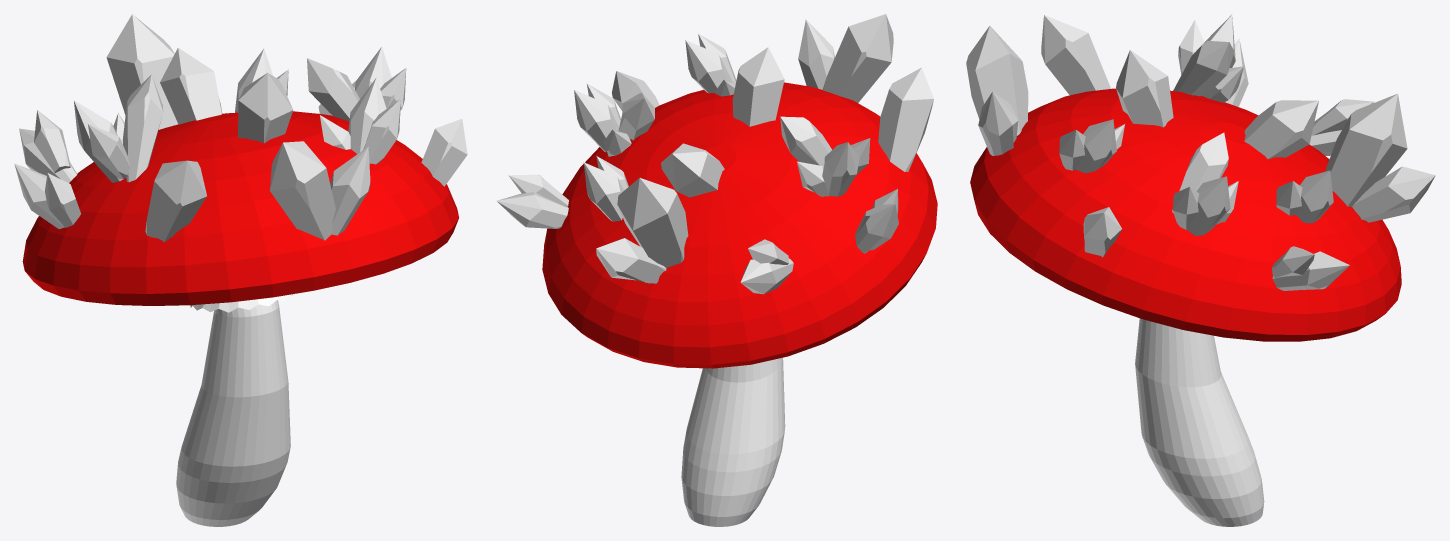
The model's file is champignons_1 (1).fbx.
3 views of the same model, side by side, from view 1: azimuth 30°, elevation 25°; view 2: azimuth 150°, elevation 25°; view 3: azimuth 270°, elevation 25° (orthographic). The views are drawn at different scales.
Parts seen in each view (by area): view 1: Sphere, Cylinder.006, Cylinder, Cylinder.022, Cylinder.017, Cylinder.015, Cylinder.011, Cylinder.003, Cylinder.004, Cylinder.025, Cylinder.013, Cylinder.016 (+11 smaller); view 2: Sphere, Cylinder, Cylinder.006, Cylinder.022, Cylinder.015, Cylinder.017, Cylinder.001, Cylinder.026, Cylinder.011, Cylinder.003, Cylinder.024, Cylinder.008 (+10 smaller); view 3: Sphere, Cylinder, Cylinder.006, Cylinder.022, Cylinder.017, Cylinder.015, Cylinder.001, Cylinder.011, Cylinder.003, Cylinder.004, Cylinder.008, Cylinder.026 (+11 smaller).
Boxes of the visible parts, x1,y1,x2,y2 form: Sphere: (22, 111, 459, 526); Cylinder.006: (270, 141, 335, 240); Cylinder: (106, 14, 177, 129); Cylinder.022: (145, 160, 206, 242); Cylinder.017: (160, 47, 222, 124); Cylinder.015: (238, 73, 293, 143); Cylinder.011: (123, 74, 163, 181); Cylinder.003: (330, 146, 370, 235); Cylinder.004: (307, 58, 359, 121); Cylinder.025: (421, 119, 467, 186); Cylinder.013: (348, 77, 386, 153); Cylinder.016: (363, 99, 400, 164); Sphere: (542, 82, 937, 526); Cylinder: (617, 178, 688, 267); Cylinder.006: (822, 14, 893, 102); Cylinder.022: (878, 67, 933, 171); Cylinder.015: (732, 47, 784, 126); Cylinder.017: (661, 143, 724, 197); Cylinder.001: (596, 238, 666, 283); Cylinder.026: (497, 192, 568, 228); Cylinder.011: (780, 116, 831, 167); Cylinder.003: (798, 19, 834, 89); Cylinder.024: (855, 204, 898, 253); Cylinder.008: (574, 90, 619, 152); Sphere: (970, 88, 1401, 526); Cylinder: (1325, 93, 1407, 206); Cylinder.006: (966, 25, 1028, 135); Cylinder.022: (1041, 15, 1110, 95); Cylinder.017: (1244, 100, 1318, 159); Cylinder.015: (1116, 50, 1173, 127); Cylinder.001: (1352, 166, 1435, 222); Cylinder.011: (1173, 41, 1233, 96); Cylinder.003: (978, 92, 1018, 155); Cylinder.004: (1172, 132, 1228, 213); Cylinder.008: (1187, 176, 1230, 235); Cylinder.026: (1272, 251, 1349, 290).
Bounding box in the file's own units: 284 × 334 × 308.
Materials: 1 (1 with a texture image).
